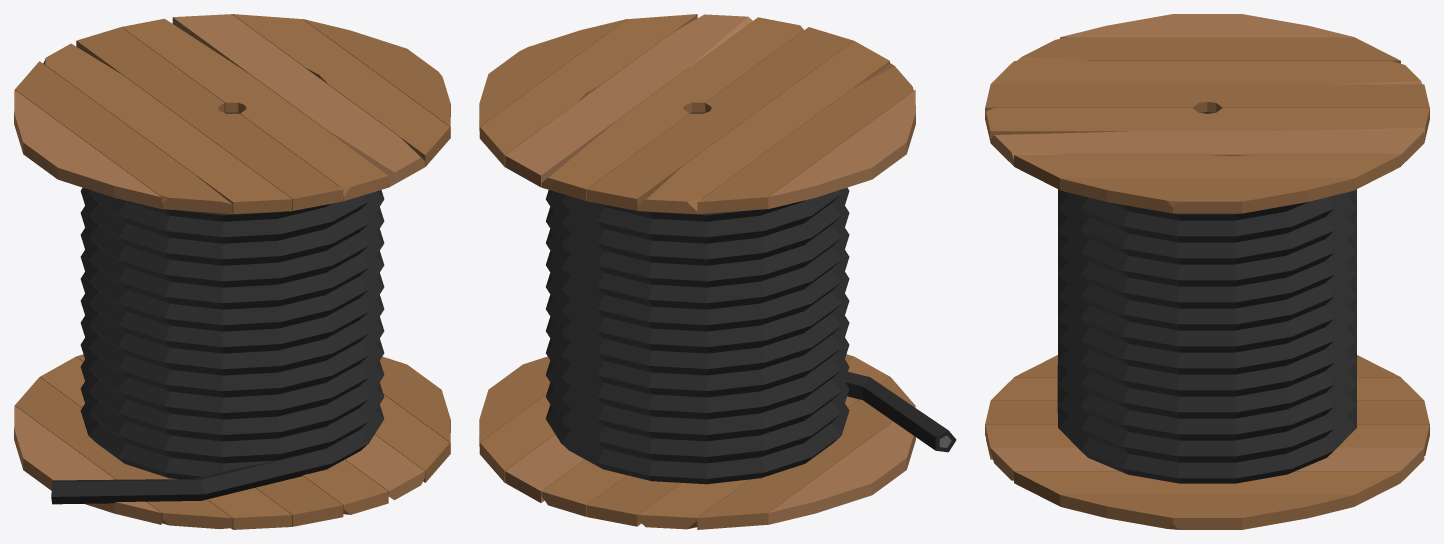
Rendered from SM_Props_CableReel_02.glb.
3 renders of one model, left to right at view 1: azimuth 30°, elevation 25°; view 2: azimuth 150°, elevation 25°; view 3: azimuth 270°, elevation 25°, orthographic.
Parts seen in each view (by area): view 1: SM_Props_CableReel_02; view 2: SM_Props_CableReel_02; view 3: SM_Props_CableReel_02.
Boxes of the visible parts, x1,y1,x2,y2 form: SM_Props_CableReel_02: (14,14,450,529); SM_Props_CableReel_02: (479,14,956,529); SM_Props_CableReel_02: (985,14,1429,529).
Size of the model in its own units: 1.69 by 1.28 by 1.58.
1 material, 1 textured.
